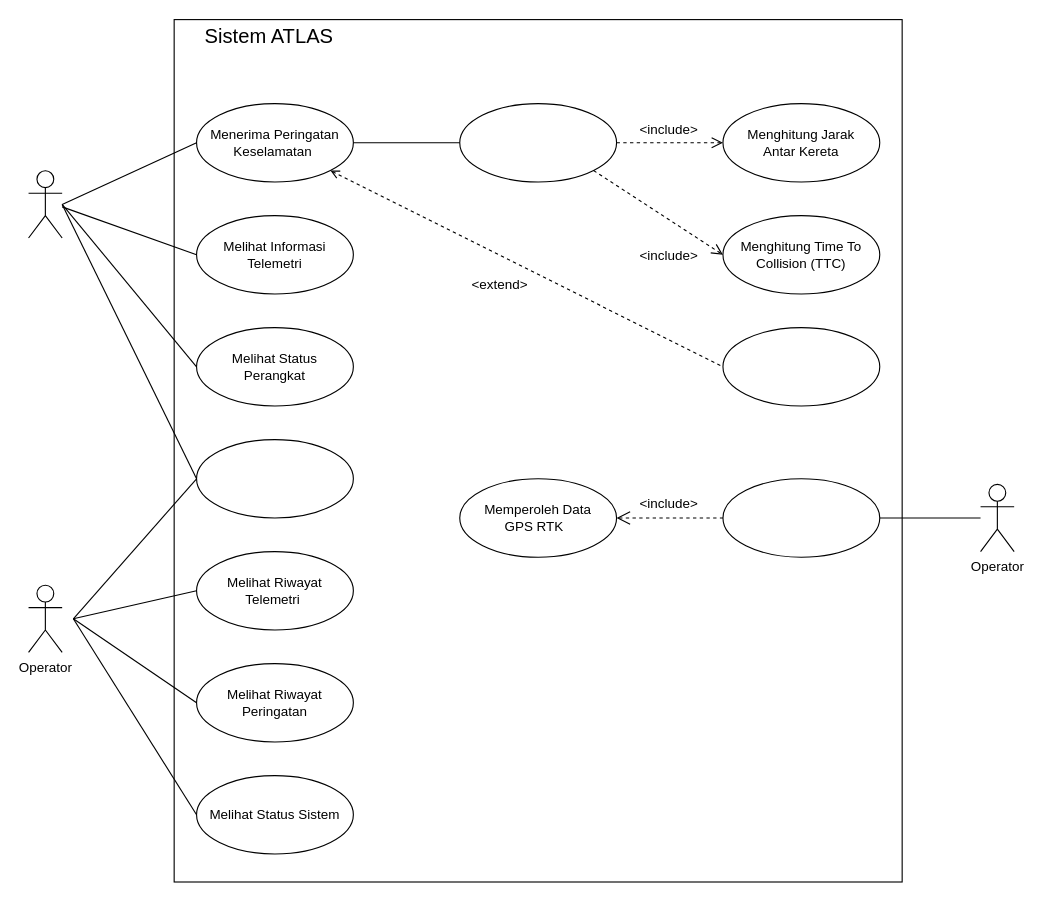
This 1043x902 diagram has some shape labels left out. Here are the shapes that lost their labels. From the top down, the centre of each, then its label:
At [538,142]: "Analisis Risiko Tabrakan".
At [44,204]: "Masinis".
At [801,366]: "Aktivasi Pengereman Otomatis".
At [274,478]: "Memantau Posisi Kereta".
At [801,517]: "Bertukar Data Telemetri".
